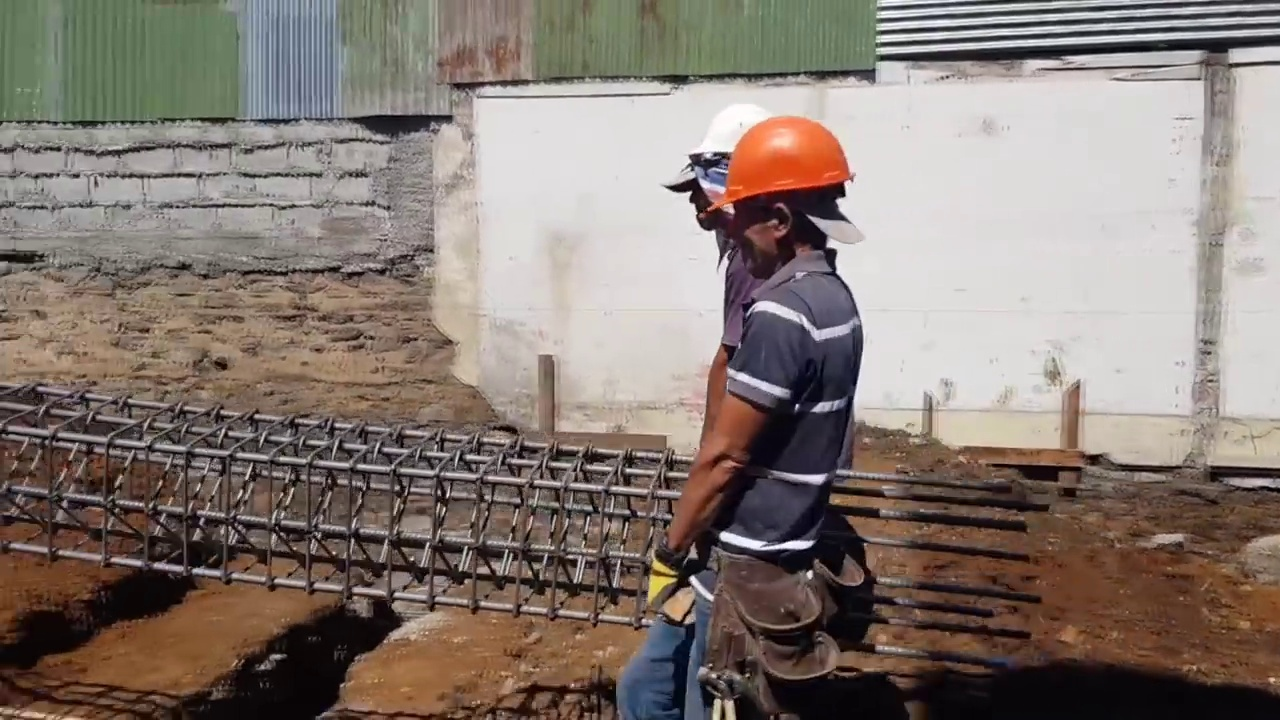helmet: (706, 117, 855, 210), (679, 112, 757, 159)
helmet-on: (704, 112, 855, 282), (662, 107, 757, 239)
person: (622, 114, 864, 718), (663, 106, 756, 447)
